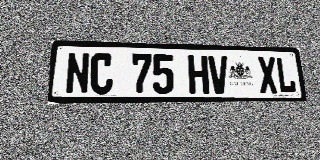5: (153, 54, 174, 94)
7: (131, 54, 152, 94)
C: (90, 53, 113, 94)
H: (188, 55, 209, 94)
L: (275, 57, 297, 93)
N: (65, 52, 90, 94)
V: (208, 55, 229, 94)
X: (257, 57, 278, 93)
